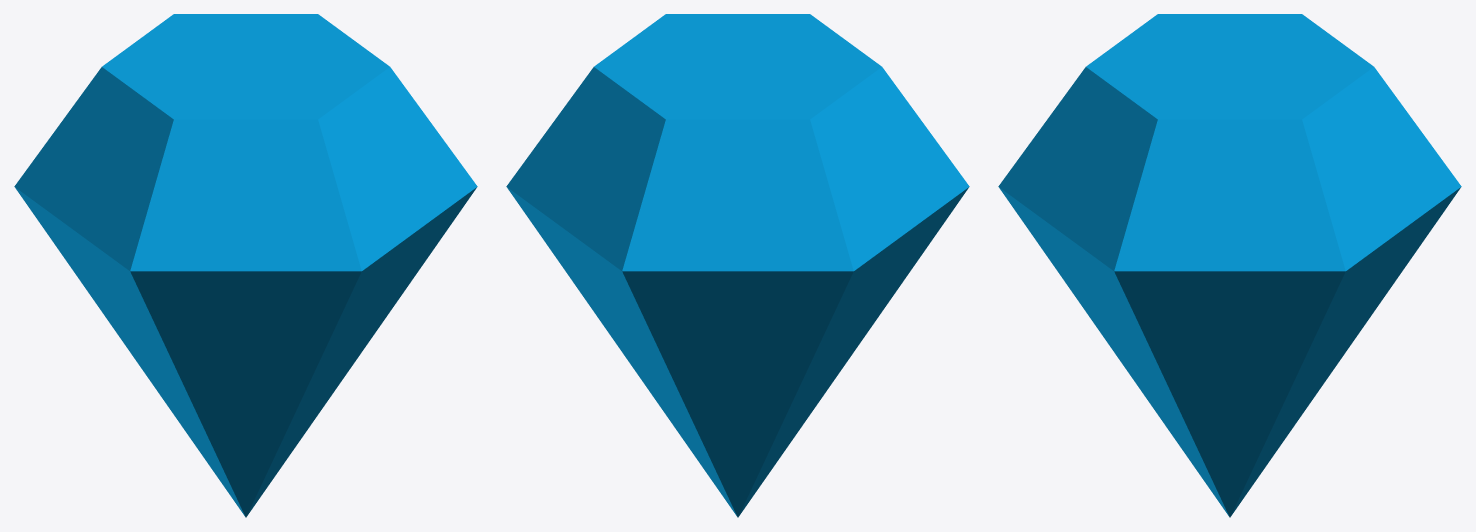
The model's file is blue_gem.glb.
The picture shows the model from 3 angles, left to right: view 1: azimuth 30°, elevation 25°; view 2: azimuth 150°, elevation 25°; view 3: azimuth 270°, elevation 25°; orthographic projection.
Parts seen in each view (by area): view 1: diamond; view 2: diamond; view 3: diamond.
Boxes of the visible parts, box(x1,y1,x2,y2) form: diamond: box(14, 14, 477, 517); diamond: box(506, 14, 969, 517); diamond: box(998, 14, 1461, 517).
Size of the model in its own units: 1.71 by 2.12 by 1.98.
